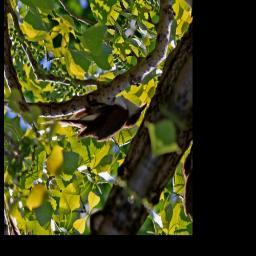Cuckoo: (48, 49, 149, 174)
